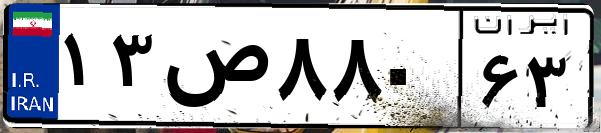0: (385, 28, 445, 110)
1: (57, 26, 110, 100)
3: (525, 38, 570, 115), (110, 28, 158, 98)
6: (475, 38, 525, 113)
8: (270, 28, 330, 110), (330, 28, 385, 110)
ص: (158, 20, 270, 120)
